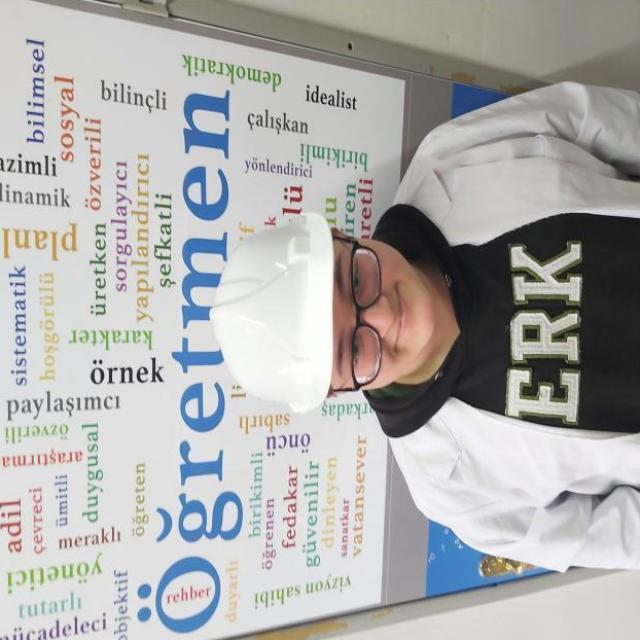helmet: (208, 211, 335, 414)
